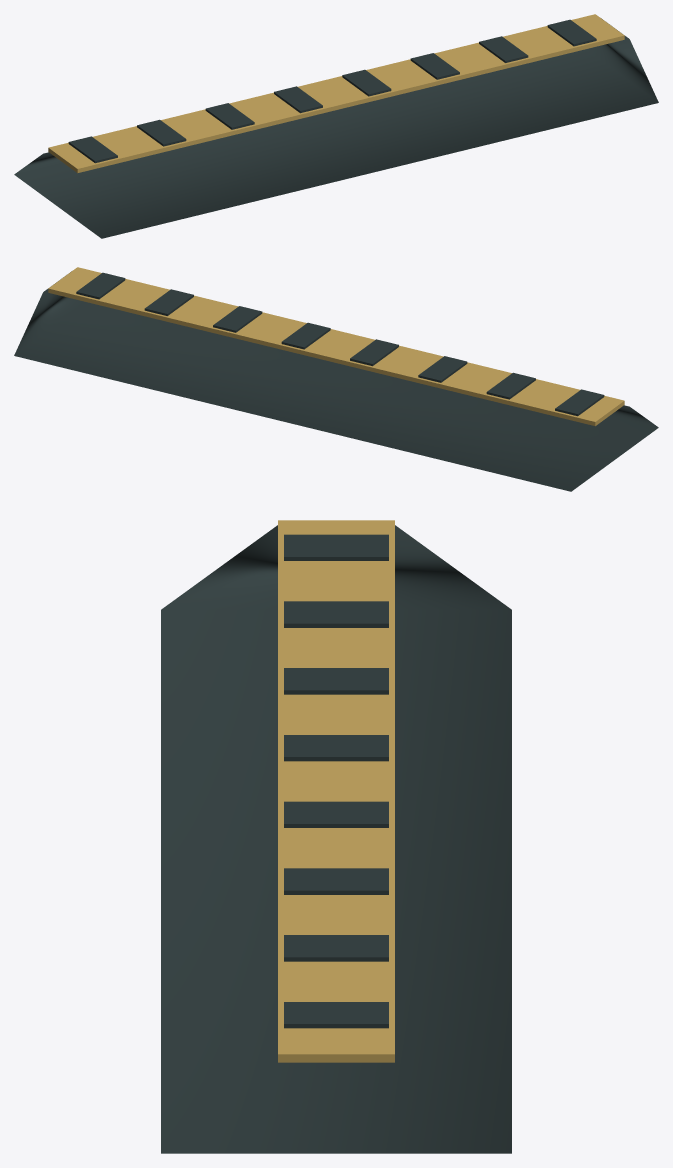
File: legacy-109.glb
3 views of the same model, one above another, from view 1: azimuth 30°, elevation 25°; view 2: azimuth 150°, elevation 25°; view 3: azimuth 270°, elevation 25° (orthographic). The views are drawn at different scales.
Parts seen in each view (by area): view 1: part-1, part-2, part-4, part-7, part-9, part-3, part-10, part-6, part-8, part-5; view 2: part-1, part-2, part-4, part-7, part-9, part-3, part-10, part-6, part-8, part-5; view 3: part-1, part-2, part-3, part-4, part-5, part-6, part-7, part-8, part-9, part-10.
Part boxes in pixels (left/top/right/bottom): part-1: left=14, top=18, right=658, bottom=238; part-2: left=48, top=14, right=624, bottom=173; part-4: left=137, top=119, right=186, bottom=146; part-7: left=342, top=69, right=391, bottom=96; part-9: left=479, top=36, right=528, bottom=62; part-3: left=68, top=136, right=117, bottom=163; part-10: left=547, top=19, right=596, bottom=46; part-6: left=274, top=86, right=322, bottom=113; part-8: left=410, top=53, right=459, bottom=79; part-5: left=205, top=103, right=254, bottom=129; part-1: left=14, top=271, right=658, bottom=491; part-2: left=48, top=267, right=624, bottom=426; part-4: left=486, top=372, right=535, bottom=399; part-7: left=281, top=322, right=330, bottom=349; part-9: left=144, top=289, right=193, bottom=315; part-3: left=555, top=389, right=604, bottom=416; part-10: left=76, top=272, right=125, bottom=299; part-6: left=350, top=339, right=398, bottom=366; part-8: left=213, top=306, right=262, bottom=332; part-5: left=418, top=356, right=467, bottom=382; part-1: left=161, top=525, right=511, bottom=1153; part-2: left=278, top=520, right=394, bottom=1062; part-3: left=284, top=534, right=388, bottom=560; part-4: left=284, top=601, right=388, bottom=627; part-5: left=284, top=668, right=388, bottom=694; part-6: left=284, top=735, right=388, bottom=761; part-7: left=284, top=801, right=388, bottom=827; part-8: left=284, top=868, right=388, bottom=894; part-9: left=284, top=935, right=388, bottom=961; part-10: left=284, top=1002, right=388, bottom=1028.
Size of the model in its own units: 1.1 by 0.093 by 0.3.
